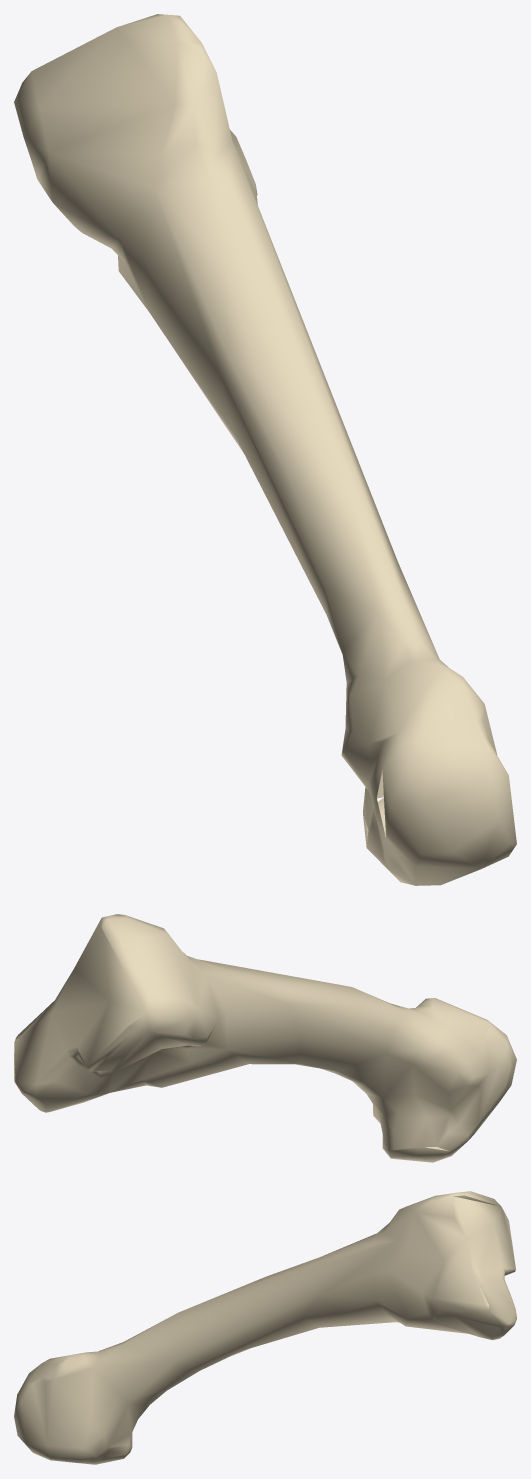
File: esqueleto-third-metatarsal-bone-r.glb
3 renders of one model, top to bottom at view 1: azimuth 30°, elevation 25°; view 2: azimuth 150°, elevation 25°; view 3: azimuth 270°, elevation 25°, orthographic. The views are drawn at different scales.
Parts seen in each view (by area): view 1: Third metatarsal bone.r; view 2: Third metatarsal bone.r; view 3: Third metatarsal bone.r.
Part boxes in pixels (box(x1,y1,x2,y2)): Third metatarsal bone.r: box(14, 14, 516, 885); Third metatarsal bone.r: box(14, 914, 516, 1162); Third metatarsal bone.r: box(14, 1191, 516, 1464).
Bounding box in the file's own units: 0.0231 × 0.0444 × 0.0678.
